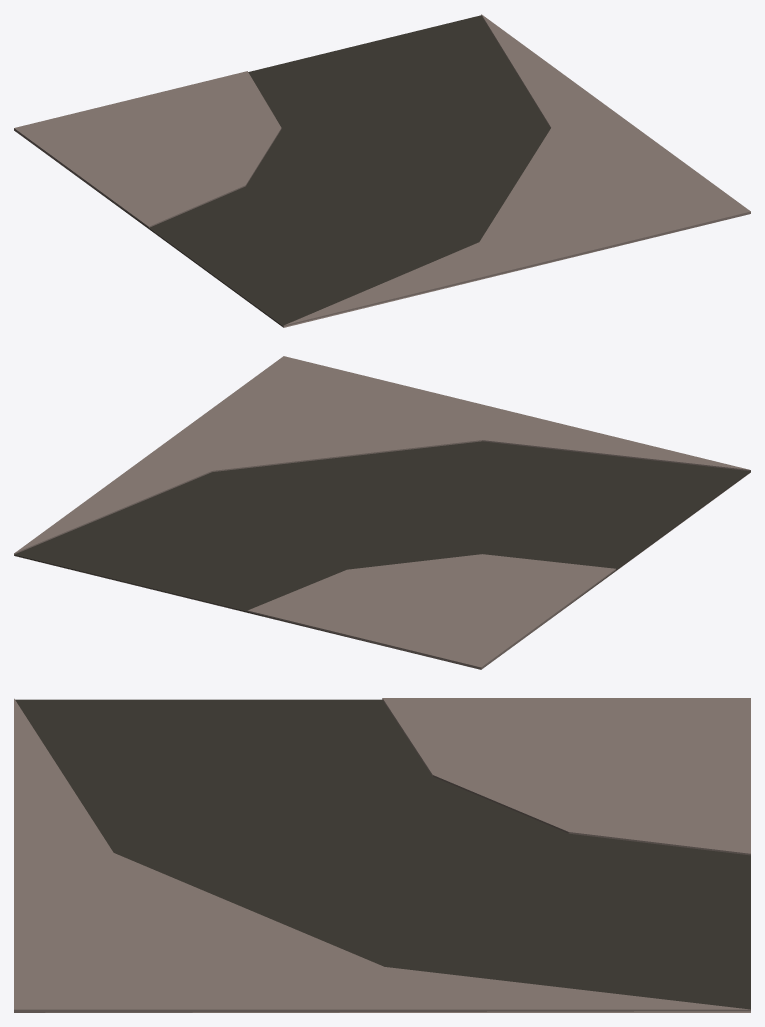
Rendered from Env_3lane_CurveA_col.fbx.
The picture shows the model from 3 angles, top to bottom: view 1: azimuth 30°, elevation 25°; view 2: azimuth 150°, elevation 25°; view 3: azimuth 270°, elevation 25°; orthographic projection. The views are drawn at different scales.
Visible parts, largest first — view 1: Env_3lane_CurveA_col; view 2: Env_3lane_CurveA_col; view 3: Env_3lane_CurveA_col.
Part boxes in pixels (x1=…): Env_3lane_CurveA_col: x1=14, y1=14, x2=750, y2=327; Env_3lane_CurveA_col: x1=14, y1=356, x2=750, y2=669; Env_3lane_CurveA_col: x1=14, y1=698, x2=750, y2=1012.
Bounding box in the file's own units: 4000 × 20 × 4000.
